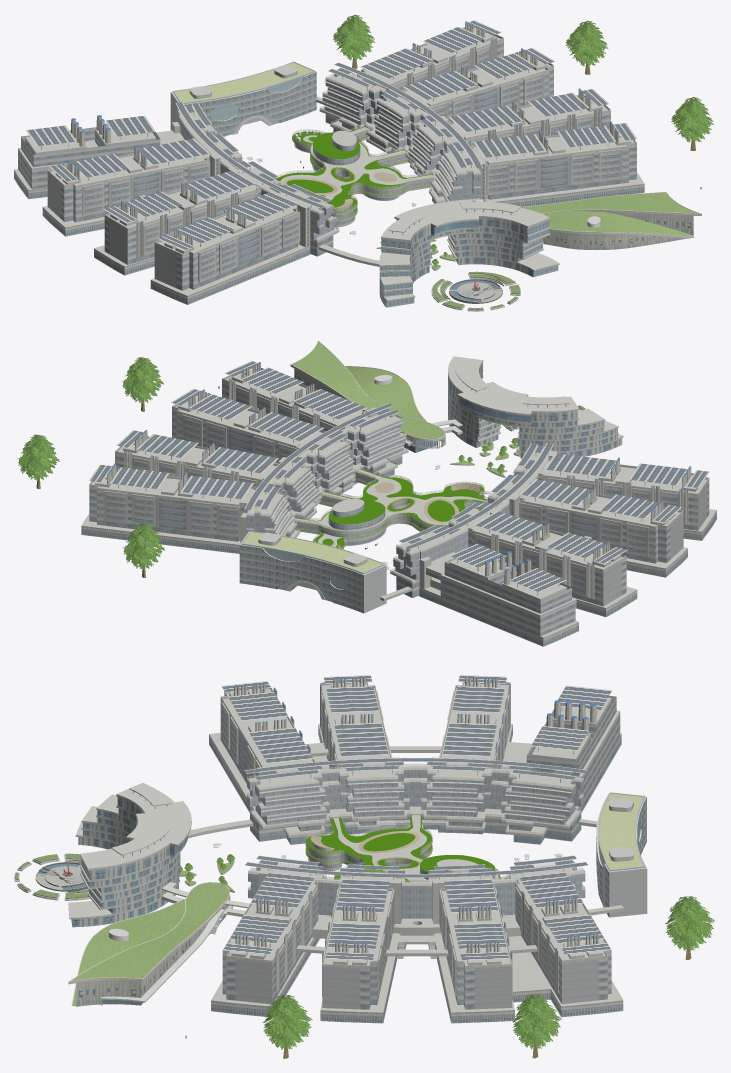
The model's file is campus.glb.
3 views of the same model, one above another, from view 1: azimuth 30°, elevation 25°; view 2: azimuth 150°, elevation 25°; view 3: azimuth 270°, elevation 25° (orthographic). The views are drawn at different scales.
Visible parts, largest first — view 1: west, east, administration, academic, activity, library, landmark-45953, landmark-45955, landmark-45779, landmark-48569, landmark-43597; view 2: west, east, administration, academic, library, activity, landmark-45779, landmark-45953, landmark-45955; view 3: east, west, administration, activity, academic, library, landmark-45953, landmark-45955, landmark-45779, landmark-43597, landmark-48569.
Part boxes in pixels (x1,y1,x2,y2): west: (14, 102, 379, 304); east: (316, 20, 644, 206); administration: (379, 200, 559, 307); academic: (275, 123, 434, 227); activity: (476, 192, 701, 249); library: (170, 61, 316, 136); landmark-45953: (565, 20, 608, 74); landmark-45955: (671, 97, 713, 151); landmark-45779: (333, 15, 375, 68); landmark-48569: (431, 271, 520, 311); landmark-43597: (449, 277, 502, 303); west: (380, 442, 716, 646); east: (81, 361, 408, 553); administration: (448, 356, 623, 458); academic: (292, 466, 487, 549); library: (239, 531, 386, 613); activity: (290, 340, 462, 452); landmark-45779: (122, 523, 164, 577); landmark-45953: (18, 434, 59, 489); landmark-45955: (122, 357, 163, 411); east: (211, 855, 623, 1023); west: (188, 675, 621, 844); administration: (68, 783, 191, 927); activity: (68, 882, 249, 1006); academic: (305, 812, 508, 882); library: (596, 792, 647, 917); landmark-45953: (512, 994, 561, 1058); landmark-45955: (262, 995, 312, 1058); landmark-45779: (665, 896, 714, 959); landmark-43597: (35, 859, 87, 891); landmark-48569: (14, 853, 90, 900).
Bounding box in the file's own units: 1771 × 165 × 1562.
Materials: 122 (88 with a texture image).
